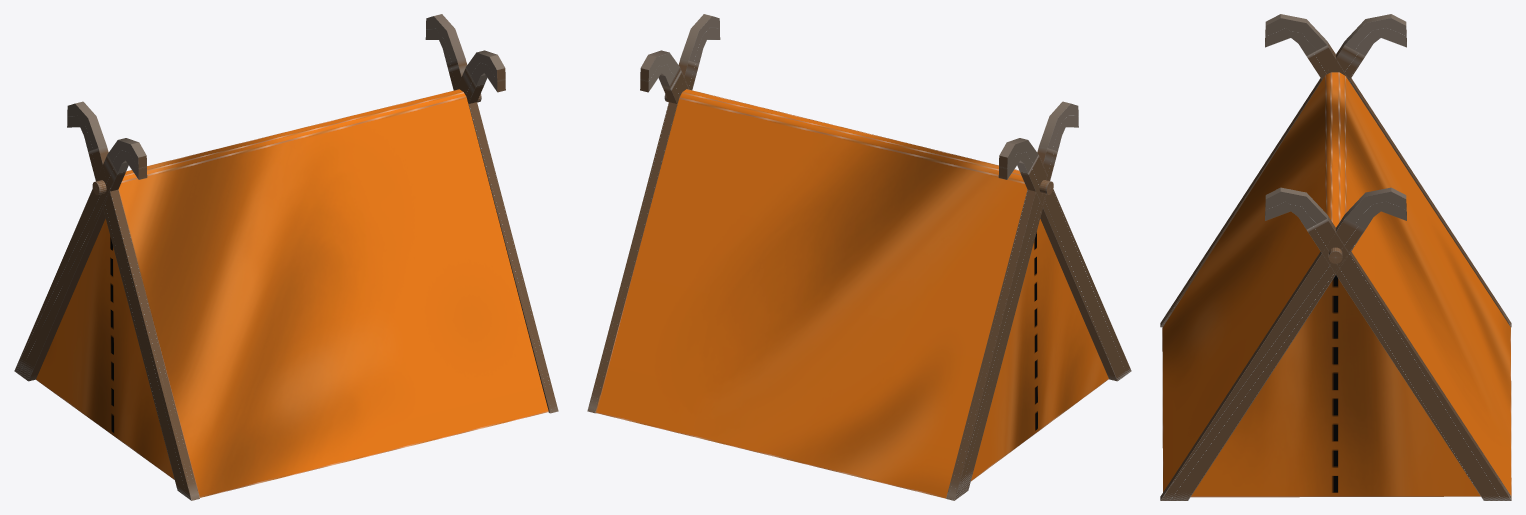
File: Tent_F.fbx
3 renders of one model, left to right at view 1: azimuth 30°, elevation 25°; view 2: azimuth 150°, elevation 25°; view 3: azimuth 270°, elevation 25°, orthographic.
Visible parts, largest first — view 1: group3; view 2: group3; view 3: group3.
Boxes of the visible parts, x1,y1,x2,y2 form: group3: (14,14,558,500); group3: (587,14,1131,500); group3: (1160,14,1511,500).
Size of the model in its own units: 4.07 by 3.18 by 3.27.
